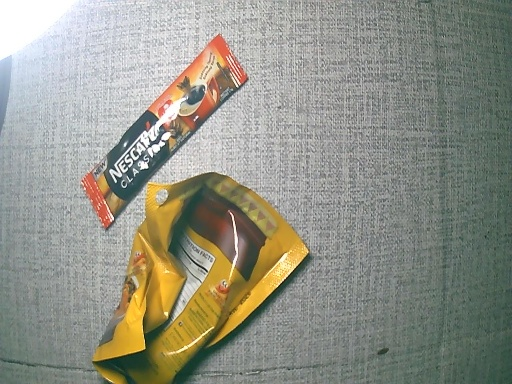plastic: (92, 172, 310, 384), (92, 30, 247, 219)
